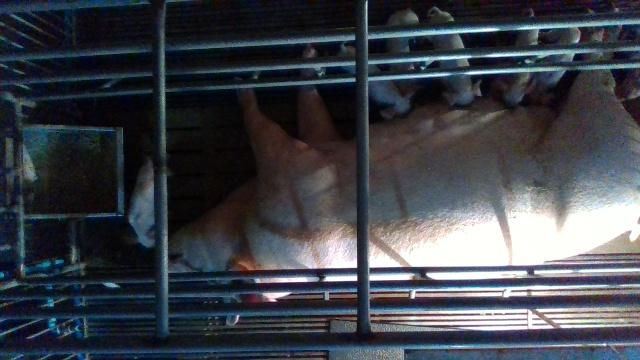piglet: (338, 41, 418, 122), (424, 10, 482, 107), (495, 7, 535, 109), (385, 8, 424, 86), (129, 156, 159, 249), (541, 26, 582, 89), (619, 1, 640, 101)
sow-sleep-lactate: (168, 8, 640, 325)
